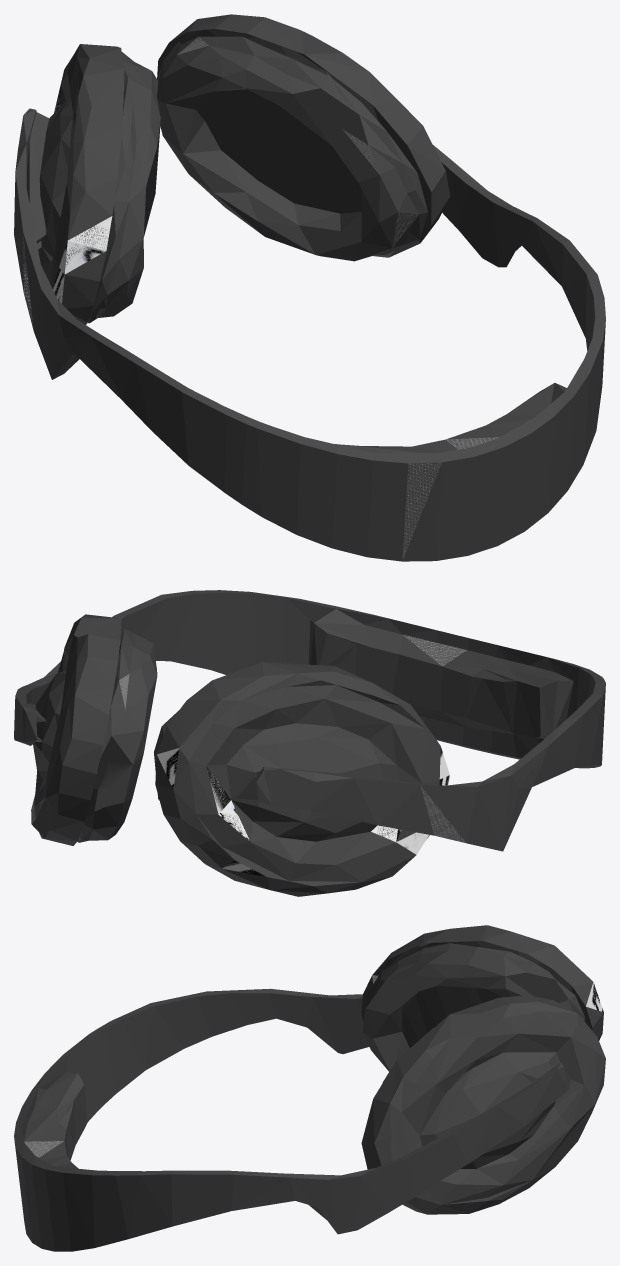
Rendered from model_align.obj.
3 views of the same model, one above another, from view 1: azimuth 30°, elevation 25°; view 2: azimuth 150°, elevation 25°; view 3: azimuth 270°, elevation 25° (orthographic). The views are drawn at different scales.
Size of the model in its own units: 0.1097 by 0.0699 by 0.1467.
